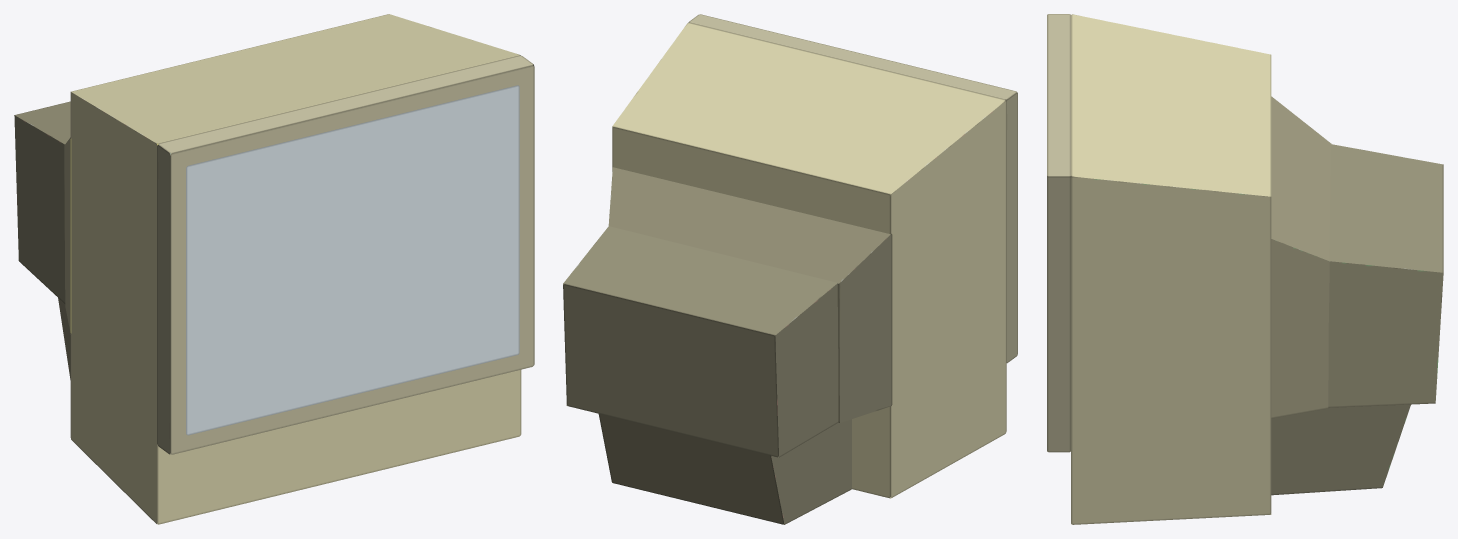
The model's file is crt_tv.obj.
3 renders of one model, left to right at view 1: azimuth 30°, elevation 25°; view 2: azimuth 150°, elevation 25°; view 3: azimuth 270°, elevation 25°, orthographic. The views are drawn at different scales.
Visible parts, largest first — view 1: mesh, plane; view 2: mesh; view 3: mesh.
Boxes of the visible parts, x1,y1,x2,y2 form: mesh: [14, 14, 534, 524]; plane: [186, 85, 519, 435]; mesh: [563, 14, 1017, 524]; mesh: [1047, 14, 1443, 524].
Size of the model in its own units: 3 by 3 by 3.1.
1 material, 1 textured.
